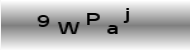9: (36, 14, 50, 28)
P: (85, 11, 100, 25)
W: (57, 21, 81, 34)
a: (106, 24, 119, 36)
j: (123, 7, 130, 23)
